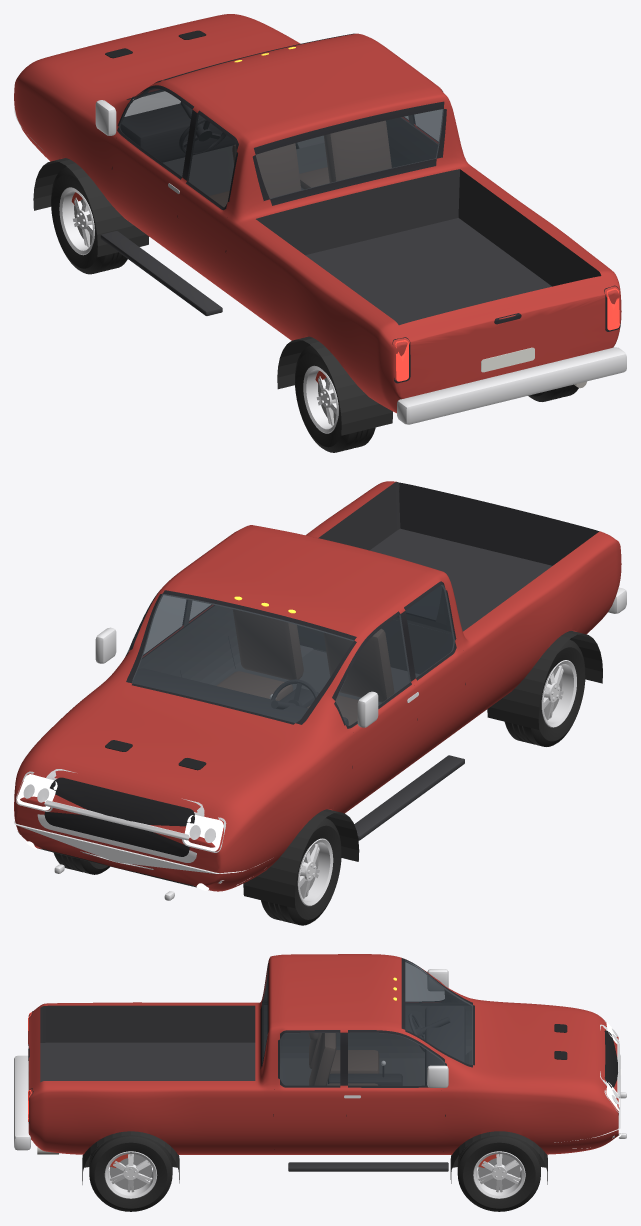
File: 09_haulmark_p30.glb
3 views of the same model, one above another, from view 1: azimuth 30°, elevation 25°; view 2: azimuth 150°, elevation 25°; view 3: azimuth 270°, elevation 25° (orthographic). The views are drawn at different scales.
Parts seen in each view (by area): view 1: Body.014, Glass.014, Interior.014, ArchLiners.013, Bumper_Rear.006, Wheel_RL.014, Wheel_FL.014, Interior_Shell.013, SideStep.002, Lights_Tail.014, Bumper_Front.006, Plate_Rear.012 (+2 smaller); view 2: Body.014, Glass.014, Interior.014, Interior_Shell.013, ArchLiners.013, Grille_Main.004, Wheel_FL.014, Wheel_RL.014, SideStep.002, Bumper_Front.006, Lights_Head.014, Mirror_Housing.013 (+3 smaller); view 3: Body.014, Glass.014, Interior.014, Wheel_RR.014, Wheel_FR.014, Interior_Shell.013, SideStep.002, ArchLiners.013, Bumper_Rear.006, Mirror_Housing.013, Grille_Main.004, SteeringWheel.014.
Boxes of the visible parts, x1,y1,x2,y2 form: Body.014: (14, 14, 621, 413); Glass.014: (119, 42, 443, 207); Interior.014: (120, 103, 391, 207); ArchLiners.013: (33, 143, 392, 435); Bumper_Rear.006: (397, 347, 626, 424); Wheel_RL.014: (295, 345, 375, 452); Wheel_FL.014: (51, 167, 127, 274); Interior_Shell.013: (119, 88, 443, 206); SideStep.002: (100, 231, 222, 315); Lights_Tail.014: (395, 288, 619, 381); Bumper_Front.006: (14, 91, 180, 154); Plate_Rear.012: (481, 347, 534, 372); Body.014: (14, 481, 621, 891); Glass.014: (126, 584, 454, 725); Interior.014: (133, 609, 394, 725); Interior_Shell.013: (132, 484, 454, 705); ArchLiners.013: (243, 631, 602, 908); Grille_Main.004: (44, 777, 194, 856); Wheel_FL.014: (261, 818, 341, 925); Wheel_RL.014: (504, 639, 585, 746); SideStep.002: (354, 755, 464, 840); Bumper_Front.006: (14, 821, 270, 885); Lights_Head.014: (17, 774, 223, 851); Mirror_Housing.013: (95, 627, 378, 727); Body.014: (28, 954, 618, 1154); Glass.014: (262, 959, 472, 1085); Interior.014: (280, 1005, 465, 1085); Wheel_RR.014: (89, 1135, 172, 1211); Wheel_FR.014: (457, 1135, 540, 1211); Interior_Shell.013: (40, 961, 472, 1065); SideStep.002: (288, 1162, 448, 1171); ArchLiners.013: (82, 1131, 547, 1184); Bumper_Rear.006: (14, 1055, 30, 1150); Mirror_Housing.013: (427, 969, 448, 1087); Grille_Main.004: (604, 1030, 619, 1109); SteeringWheel.014: (408, 1013, 450, 1051).
Size of what is drawn, in the model's own units: 2.22 by 1.88 by 5.74.
